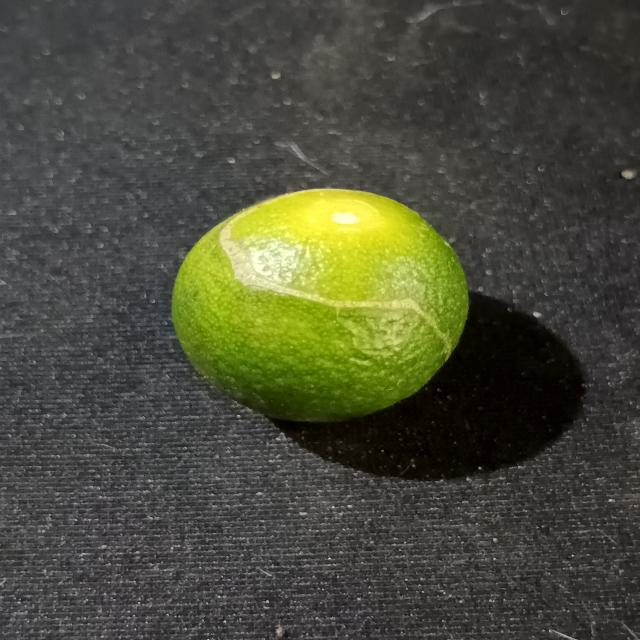thrips: (167, 187, 475, 426)
